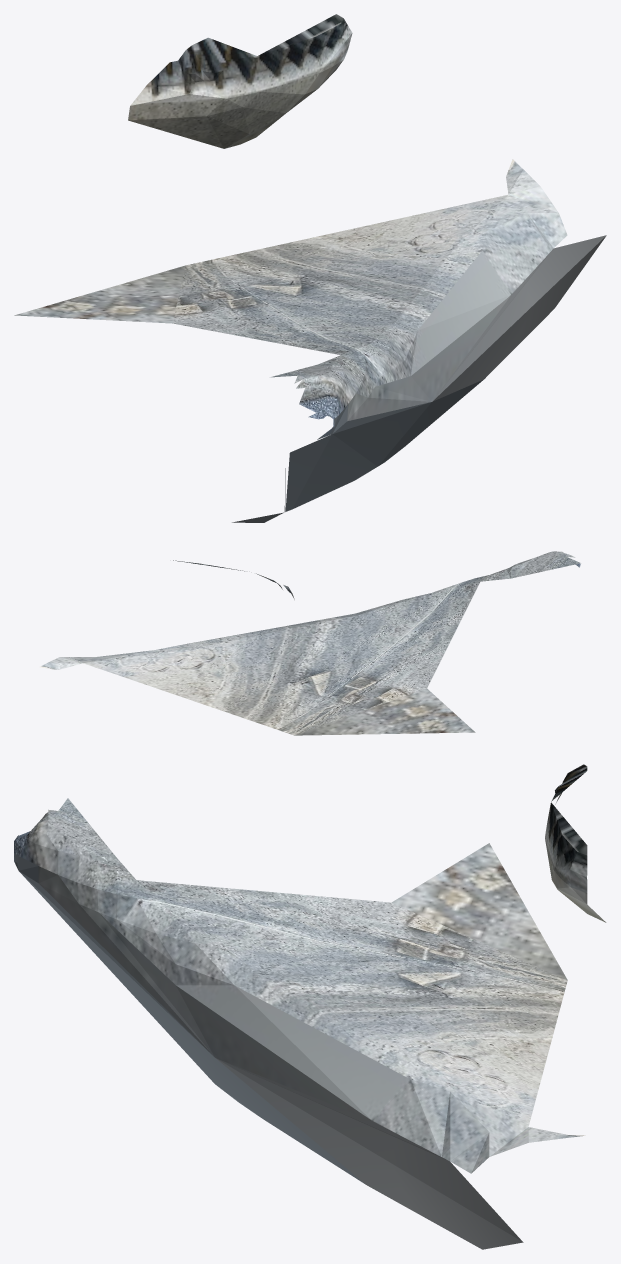
The picture shows the model from 3 angles, top to bottom: view 1: azimuth 30°, elevation 25°; view 2: azimuth 150°, elevation 25°; view 3: azimuth 270°, elevation 25°; orthographic projection. The views are drawn at different scales.
Size of the model in its own units: 2.49 by 1.2 by 1.98.
Materials: 1 (1 with a texture image).
